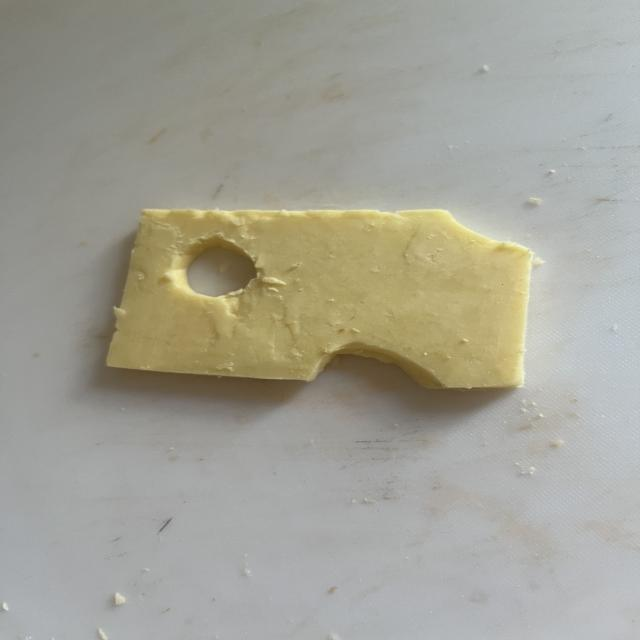cheese: (107, 210, 531, 388)
